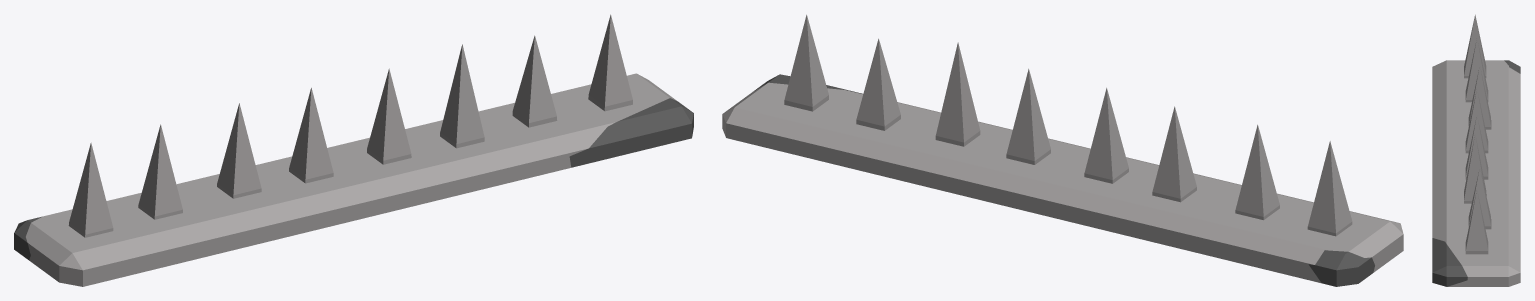
The model's file is SMLMetalSpikeTrap.fbx.
3 renders of one model, left to right at view 1: azimuth 30°, elevation 25°; view 2: azimuth 150°, elevation 25°; view 3: azimuth 270°, elevation 25°, orthographic. The views are drawn at different scales.
Parts seen in each view (by area): view 1: SMLMetalSpikeTrap; view 2: SMLMetalSpikeTrap; view 3: SMLMetalSpikeTrap.
Part boxes in pixels (bbox=[...]): SMLMetalSpikeTrap: bbox=[14, 14, 693, 286]; SMLMetalSpikeTrap: bbox=[722, 14, 1403, 286]; SMLMetalSpikeTrap: bbox=[1432, 14, 1520, 286].
Bounding box in the file's own units: 86.17 × 15.63 × 15.07.
